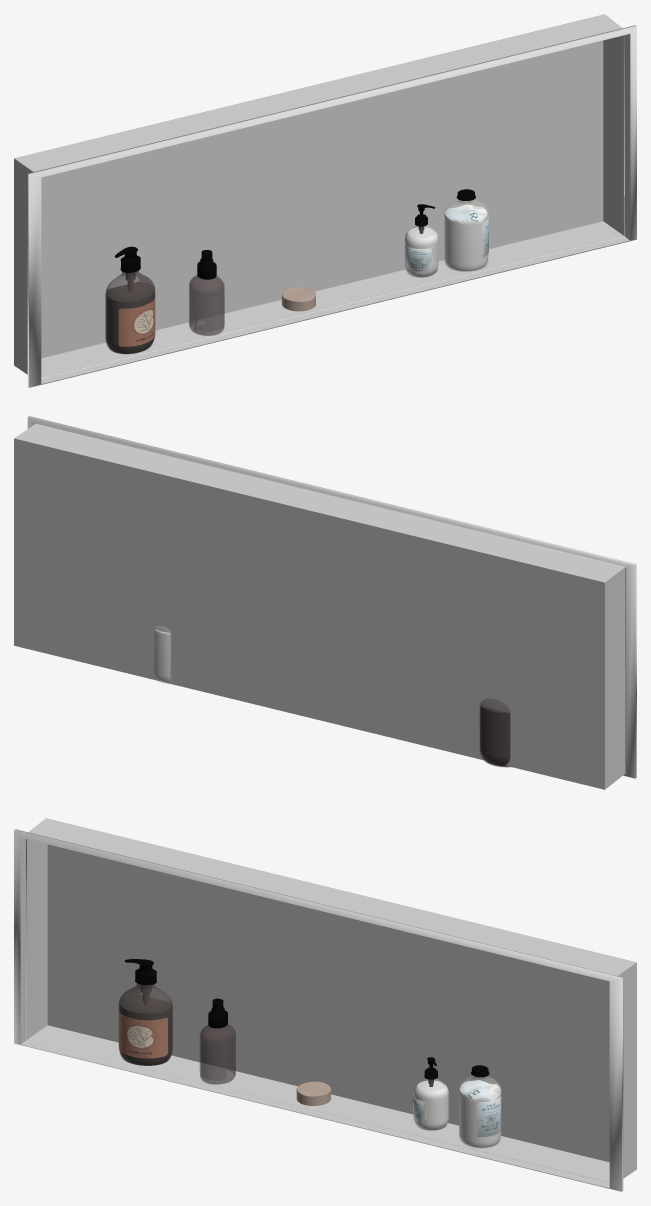
The model's file is NICHEPANEL_compressed.glb.
3 views of the same model, one above another, from view 1: azimuth 30°, elevation 25°; view 2: azimuth 150°, elevation 25°; view 3: azimuth 330°, elevation 25° (orthographic).
Parts seen in each view (by area): view 1: Niche 910x305x68, Niche Bottles, Bath_soak_Cap001.003, Bottle_3.002, Meraki_conditioner_Cap001.002, Soap.001; view 2: Niche 910x305x68, Niche Bottles, Bottle_3.002, Bath_soak_Cap001.003; view 3: Niche 910x305x68, Niche Bottles, Bath_soak_Cap001.003, Bottle_3.002, Meraki_conditioner_Cap001.002, Soap.001.
Boxes of the visible parts, box(x1,y1,x2,y2) form: Niche 910x305x68: box(14, 14, 636, 387); Niche Bottles: box(105, 189, 475, 353); Bath_soak_Cap001.003: box(405, 200, 488, 277); Bottle_3.002: box(106, 272, 155, 353); Meraki_conditioner_Cap001.002: box(404, 225, 438, 277); Soap.001: box(281, 287, 315, 311); Niche 910x305x68: box(14, 416, 636, 789); Niche Bottles: box(479, 698, 510, 767); Bottle_3.002: box(480, 706, 509, 766); Bath_soak_Cap001.003: box(153, 626, 171, 683); Niche 910x305x68: box(14, 818, 636, 1191); Niche Bottles: box(119, 959, 489, 1086); Bath_soak_Cap001.003: box(413, 1076, 501, 1148); Bottle_3.002: box(119, 984, 171, 1065); Meraki_conditioner_Cap001.002: box(413, 1078, 448, 1130); Soap.001: box(296, 1081, 331, 1105).
Bounding box in the file's own units: 0.91 × 0.3051 × 0.0759.
Materials: 9 (2 with a texture image).
